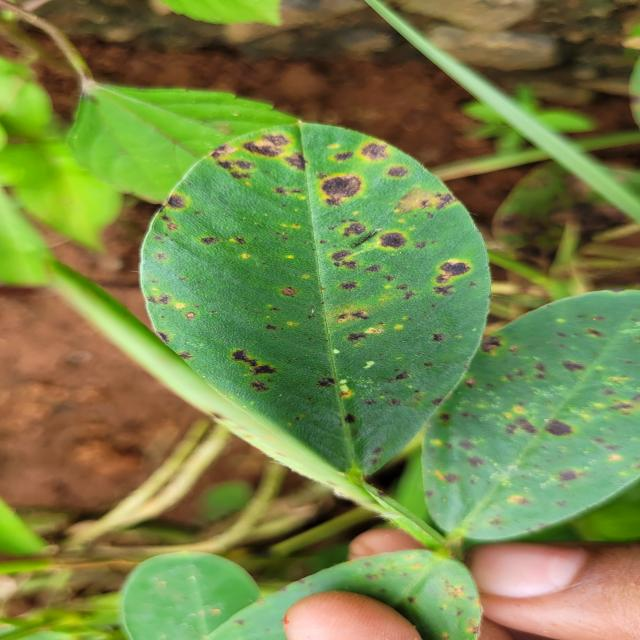Ground nut_tikka leaf spot: (139, 116, 497, 484)
